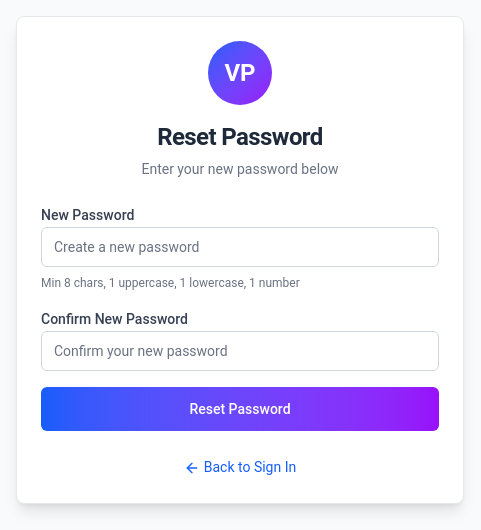
Test case: password reset flow-specific validation › submits an email token with valid passwords without an invisible email error
Type "SyntheticPass123" into the password field labelled "New Password" at (240, 247), box [41,227,439,267]
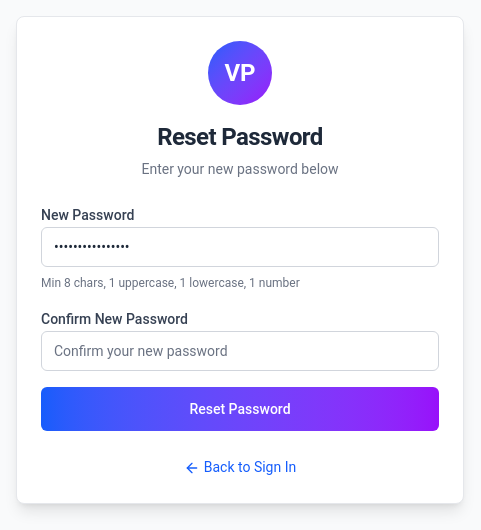
Type "SyntheticPass123" into the password field labelled "Confirm New Password" at (240, 351), box [41,331,439,371]
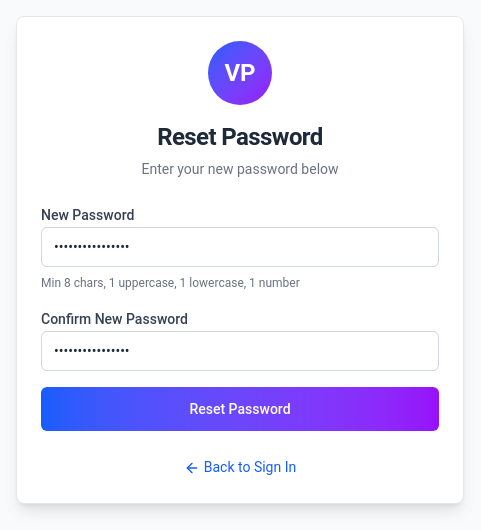
Click the button "Reset Password" at (240, 409), box [41,387,439,431]
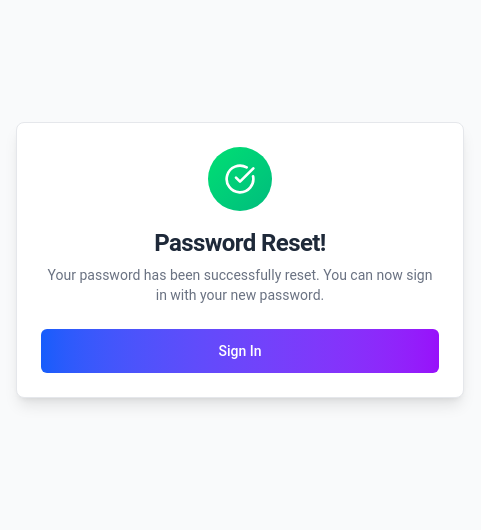
Expected: the text "Password Reset!" is shown, [154,229,326,257]
